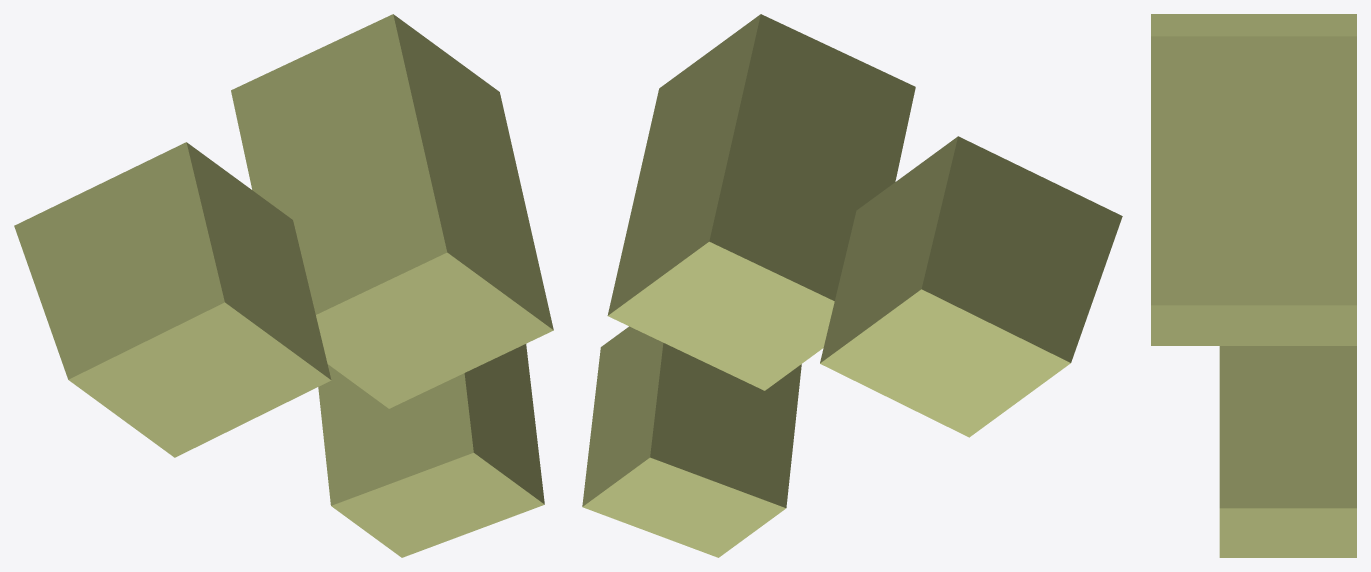
3 views of the same model, side by side, from view 1: azimuth 30°, elevation 25°; view 2: azimuth 150°, elevation 25°; view 3: azimuth 270°, elevation 25° (orthographic). The views are drawn at different scales.
Visible parts, largest first — view 1: 0_1_2_3_3_3_0_3_0_3; view 2: 0_1_2_3_3_3_0_3_0_3; view 3: 0_1_2_3_3_3_0_3_0_3.
Boxes of the visible parts, x1,y1,x2,y2 form: 0_1_2_3_3_3_0_3_0_3: (14, 14, 553, 557); 0_1_2_3_3_3_0_3_0_3: (582, 14, 1122, 557); 0_1_2_3_3_3_0_3_0_3: (1151, 14, 1356, 557).
Size of the model in its own units: 22.41 by 22.21 by 9.
